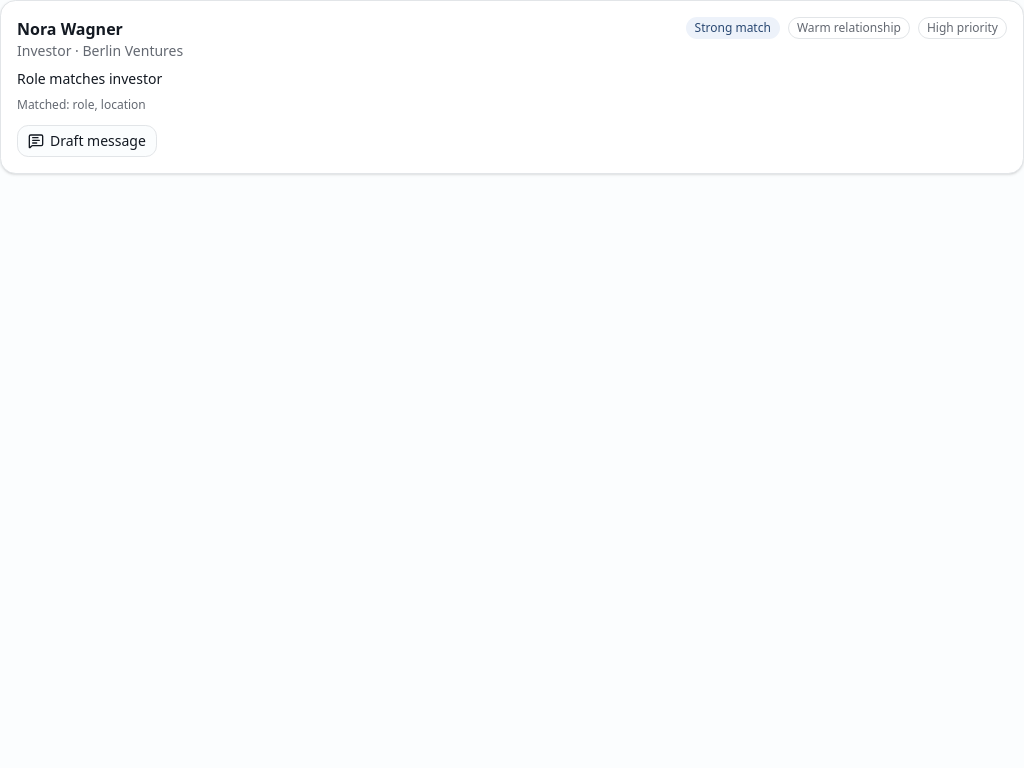
Scenario: Ask recommendation draft control › posts canonical selected-contact IDs and editable draft settings
This screenshot has width=1024, height=768.
Expected: the text "Strong match" is shown, left=686, top=17, right=780, bottom=39
Expected: the text "Warm relationship" is shown, left=788, top=17, right=910, bottom=39
Click the button "Draft message" at (87, 141), box left=17, top=125, right=157, bottom=157
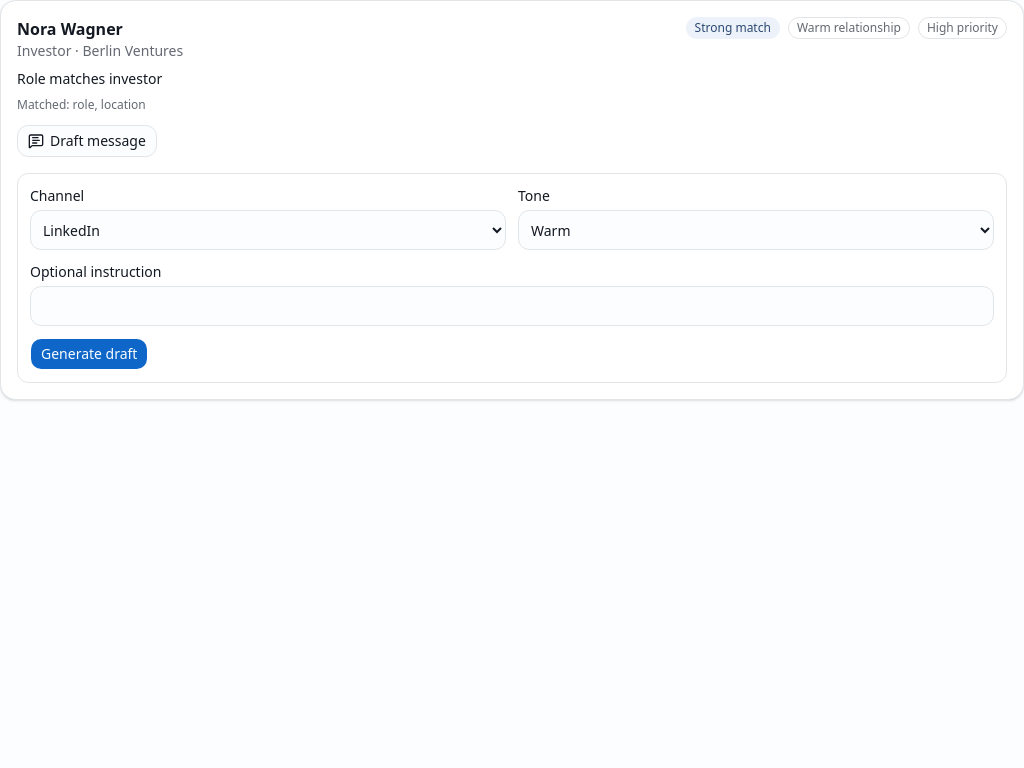
Select "LinkedIn" in the dropdown labelled "Channel" at (268, 230), box left=30, top=210, right=506, bottom=250
Select "Concise" in the dropdown labelled "Tone" at (756, 230), box left=518, top=210, right=994, bottom=250
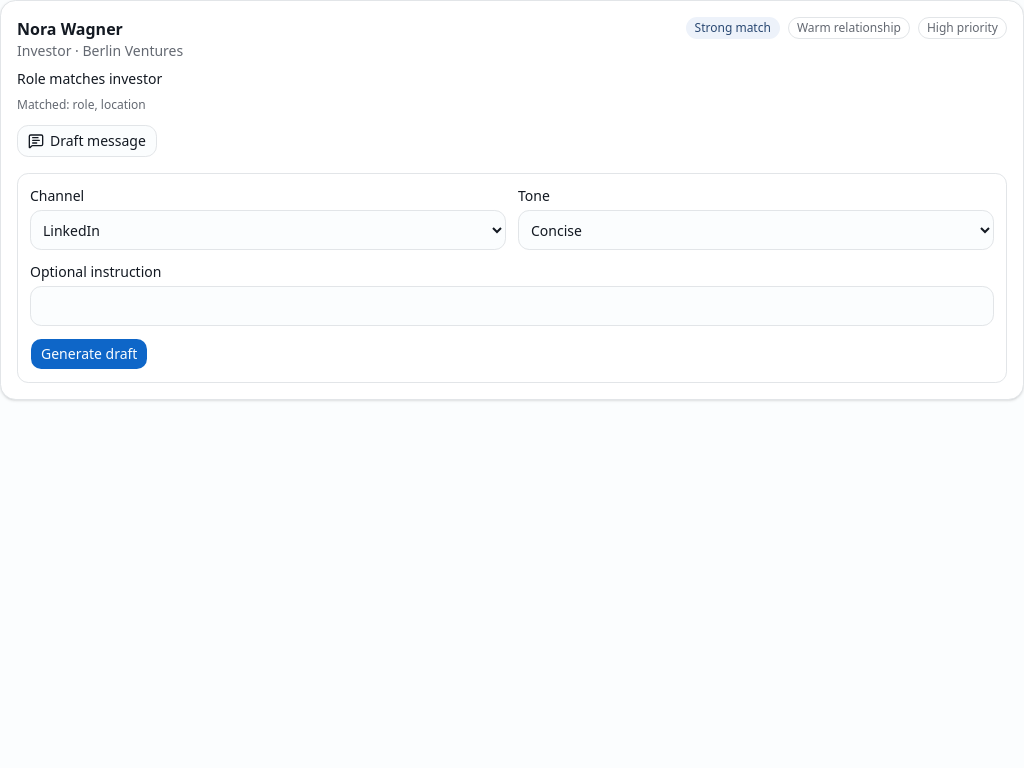
Type "Ask about AI startup investment activity in Germany." into the field labelled "Optional instruction" at (512, 306), box left=30, top=286, right=994, bottom=326
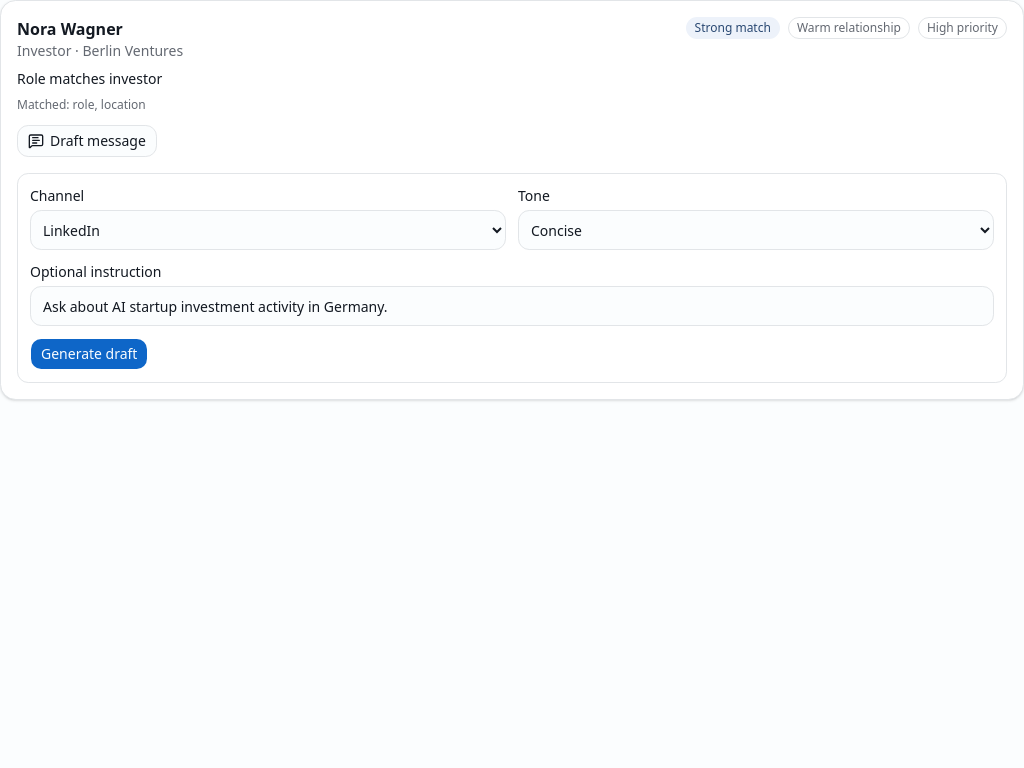
Click the button "Generate draft" at (89, 354), box left=30, top=338, right=148, bottom=370
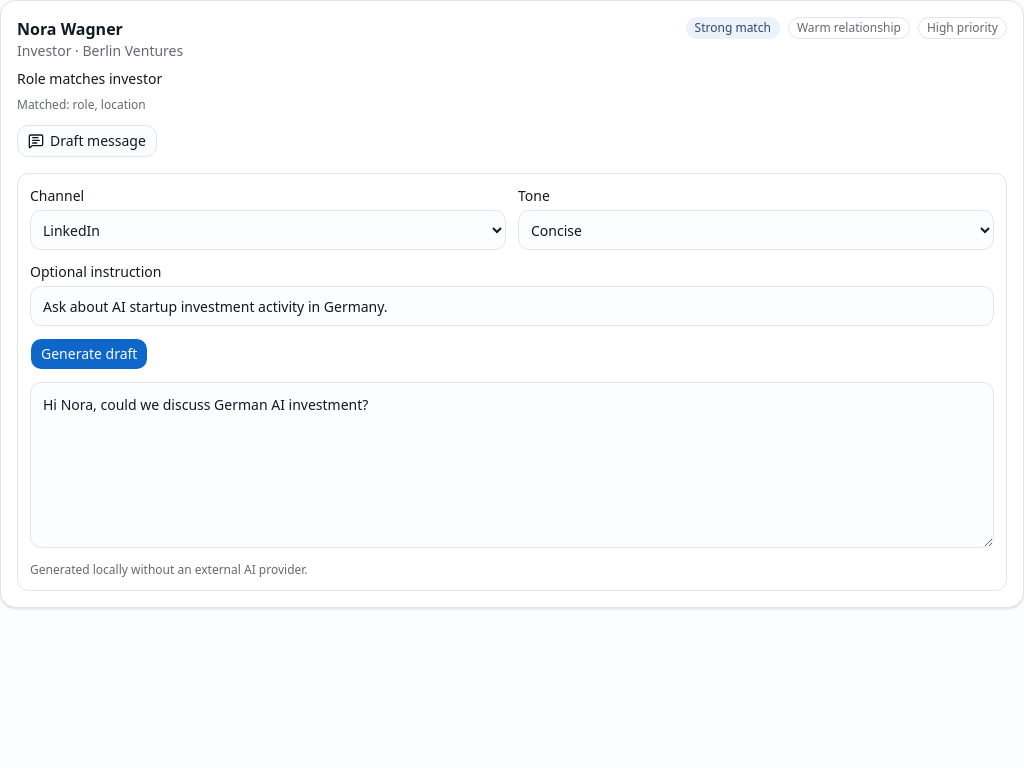
Result: the text box named "Draft for Nora Wagner" holds "Hi Nora, could we discuss German AI investment?" at left=30, top=382, right=994, bottom=548
